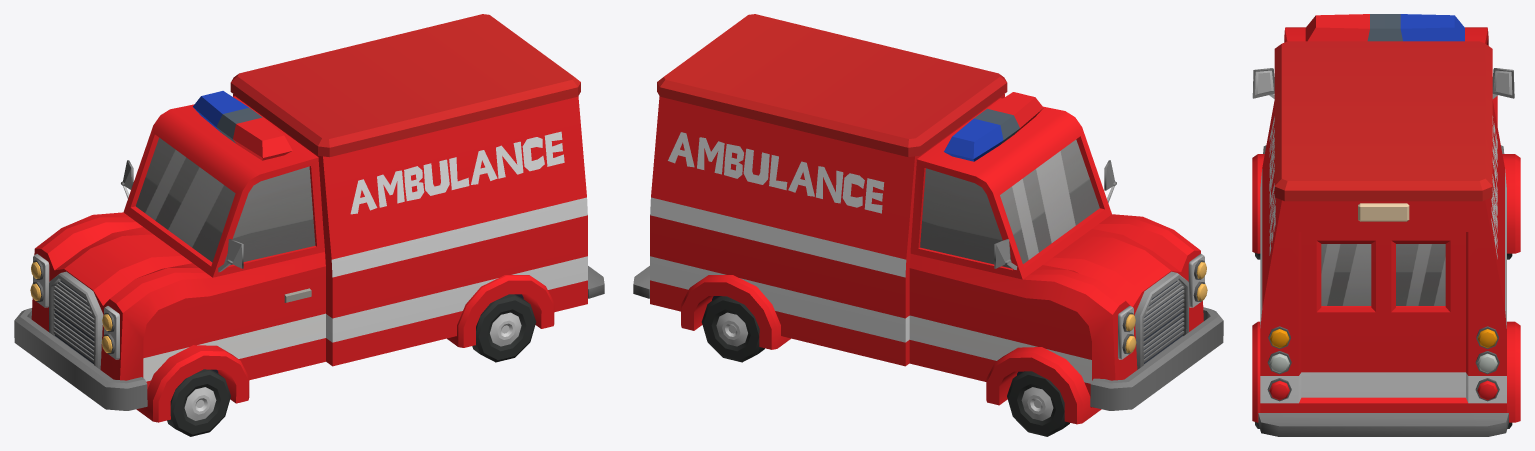
The model's file is Ambulance_2_A.fbx.
3 views of the same model, side by side, from view 1: azimuth 30°, elevation 25°; view 2: azimuth 150°, elevation 25°; view 3: azimuth 270°, elevation 25° (orthographic). The views are drawn at different scales.
Parts seen in each view (by area): view 1: Ambulance_2_A, RL, FL; view 2: Ambulance_2_A, RR, FR; view 3: Ambulance_2_A.
Boxes of the visible parts, x1,y1,x2,y2 form: Ambulance_2_A: [14, 14, 604, 422]; RL: [472, 294, 536, 362]; FL: [167, 369, 230, 436]; Ambulance_2_A: [633, 14, 1223, 424]; RR: [701, 296, 764, 362]; FR: [1007, 371, 1069, 436]; Ambulance_2_A: [1252, 14, 1520, 436].
Size of the model in its own units: 408 by 199 by 168.
